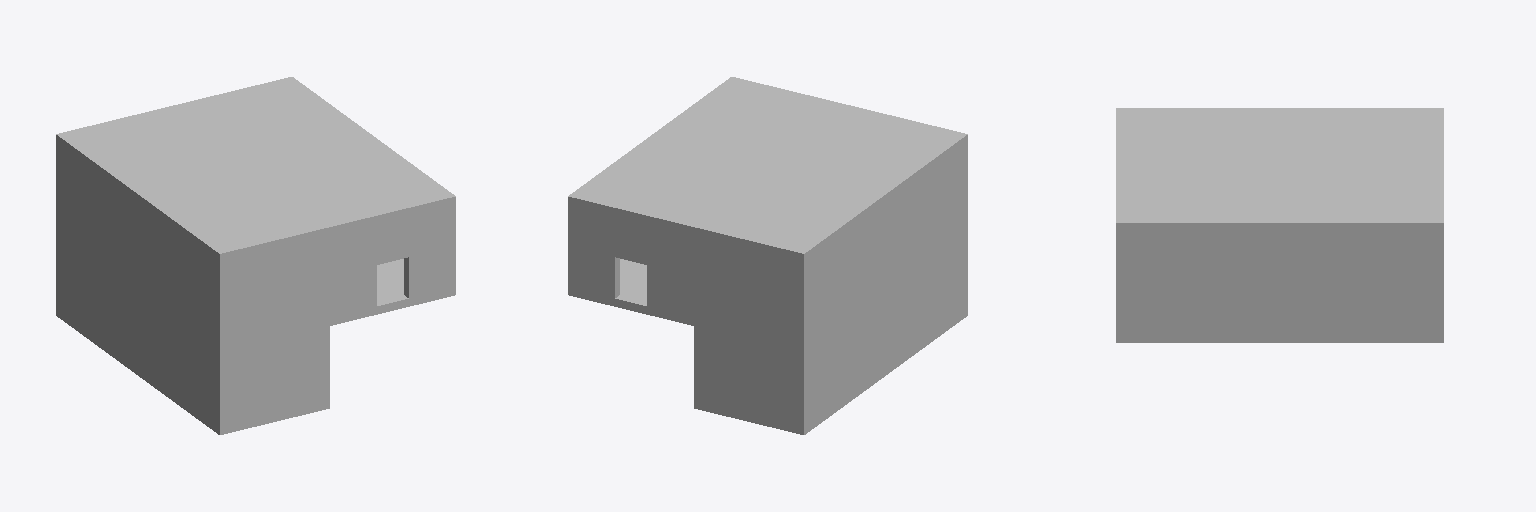
File: huanpung_bang.obj
3 renders of one model, left to right at view 1: azimuth 30°, elevation 25°; view 2: azimuth 150°, elevation 25°; view 3: azimuth 270°, elevation 25°, orthographic.
Parts seen in each view (by area): view 1: Cube.014, Cube.006, Cube.007, Cube.015, Cube.008, Cube.011, Cube, Cube.001, Cube.012; view 2: Cube.014, Cube.006, Cube.003, Cube.013, Cube.002, Cube.011, Cube, Cube.004, Cube.012; view 3: Cube.014, Cube.005, Cube.012, Cube, Cube.011, Cube.002, Cube.008.
Part boxes in pixels (bbox=[...]): Cube.014: bbox=[56, 77, 455, 261]; Cube.006: bbox=[60, 146, 214, 422]; Cube.007: bbox=[215, 224, 376, 344]; Cube.015: bbox=[215, 320, 321, 426]; Cube.008: bbox=[404, 205, 455, 297]; Cube.011: bbox=[56, 308, 329, 434]; Cube: bbox=[322, 259, 455, 327]; Cube.001: bbox=[377, 216, 408, 264]; Cube.012: bbox=[322, 326, 329, 401]; Cube.014: bbox=[568, 77, 967, 261]; Cube.006: bbox=[809, 146, 963, 422]; Cube.003: bbox=[647, 224, 808, 344]; Cube.013: bbox=[702, 320, 808, 426]; Cube.002: bbox=[568, 205, 619, 297]; Cube.011: bbox=[694, 308, 967, 434]; Cube: bbox=[568, 259, 701, 327]; Cube.004: bbox=[615, 216, 646, 264]; Cube.012: bbox=[694, 326, 701, 401]; Cube.014: bbox=[1116, 108, 1443, 230]; Cube.005: bbox=[1125, 231, 1434, 313]; Cube.012: bbox=[1116, 322, 1443, 334]; Cube: bbox=[1116, 314, 1443, 321]; Cube.011: bbox=[1116, 335, 1443, 342]; Cube.002: bbox=[1435, 231, 1443, 313]; Cube.008: bbox=[1116, 231, 1124, 313].
Size of the model in its own units: 30 by 22 by 36.